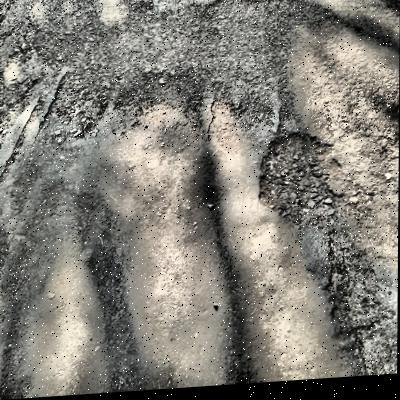pothole: (253, 129, 355, 229)
